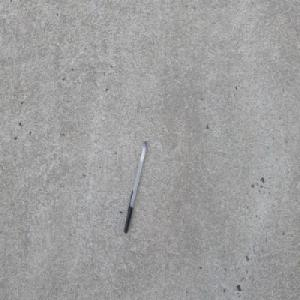Pen: (123, 140, 148, 234)
